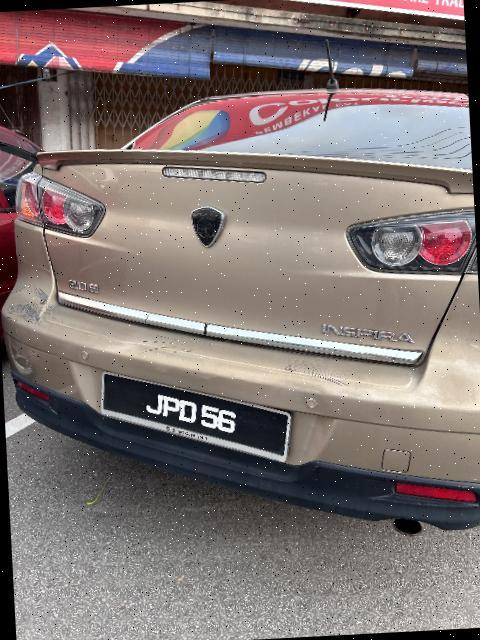JPD56: (99, 360, 297, 474)
License_Plate: (99, 360, 297, 474)
car: (1, 65, 480, 562)
